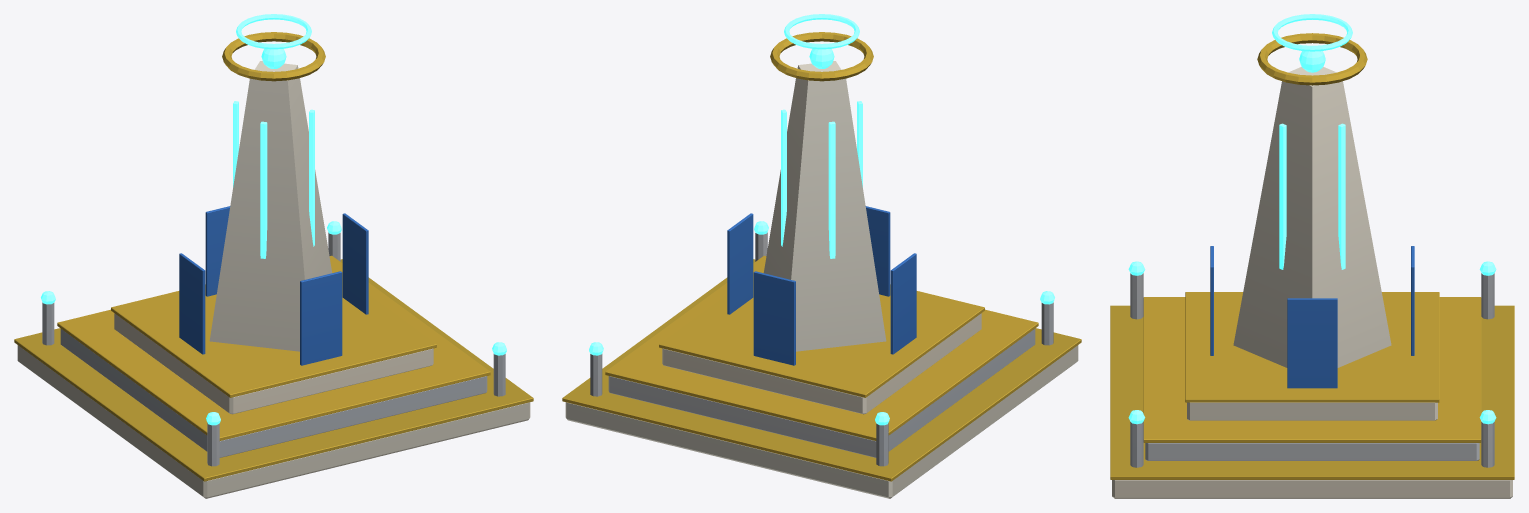
The model's file is obelisque.glb.
3 views of the same model, side by side, from view 1: azimuth 30°, elevation 25°; view 2: azimuth 150°, elevation 25°; view 3: azimuth 270°, elevation 25° (orthographic). The views are drawn at different scales.
Parts seen in each view (by area): view 1: obelisque; view 2: obelisque; view 3: obelisque.
Boxes of the visible parts, left/top/right/bottom form: obelisque: left=14, top=14, right=533, bottom=498; obelisque: left=562, top=14, right=1081, bottom=498; obelisque: left=1110, top=14, right=1514, bottom=498.
Bounding box in the file's own units: 4.84 × 5.08 × 4.84.
